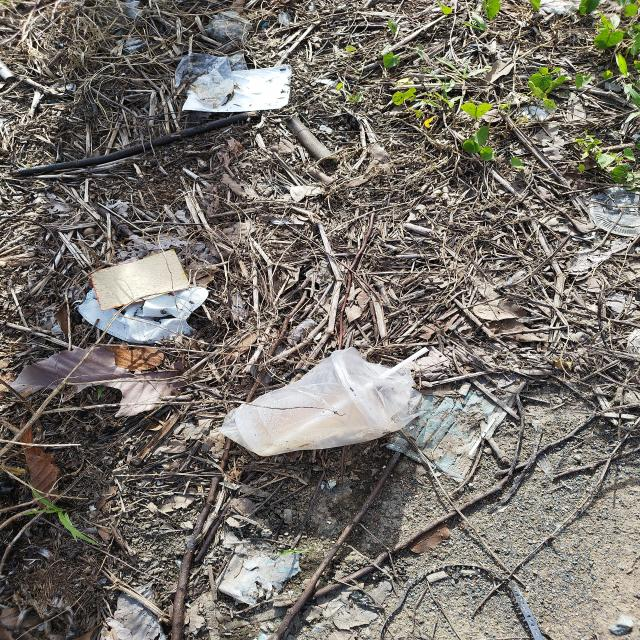trash bag: (220, 349, 421, 456)
